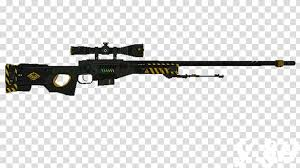gun: (3, 39, 297, 97)
